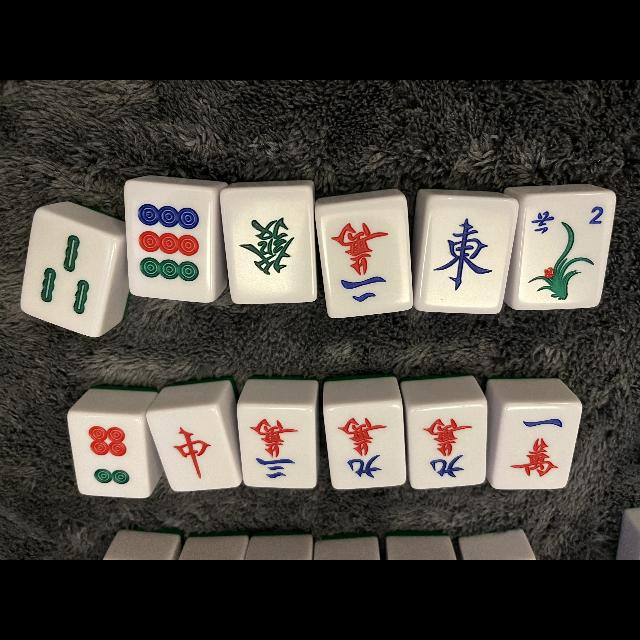b3: (27, 223, 108, 321)
c1: (499, 407, 571, 488)
c2: (323, 203, 403, 315)
c3: (240, 408, 312, 488)
c9: (327, 405, 401, 485), (410, 407, 482, 485)
d6: (73, 414, 145, 498)
d9: (126, 188, 212, 296)
dg: (225, 188, 312, 300)
dr: (160, 410, 230, 490)
f2: (524, 197, 612, 243)
we: (424, 202, 504, 310)
